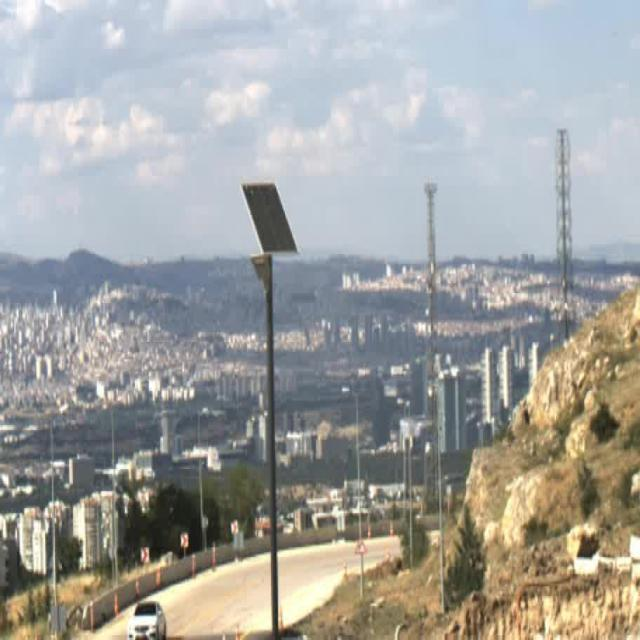Car: (127, 601, 168, 640)
